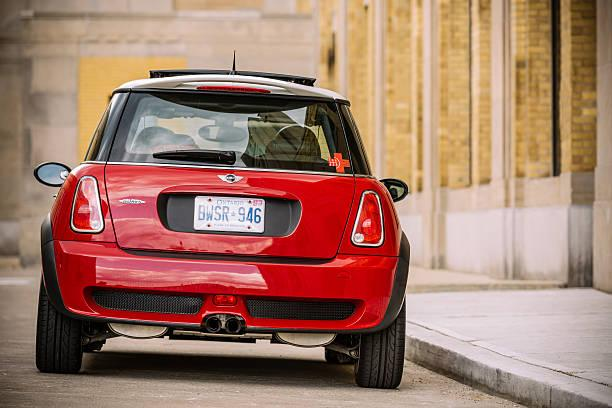mini: (210, 170, 253, 191)
